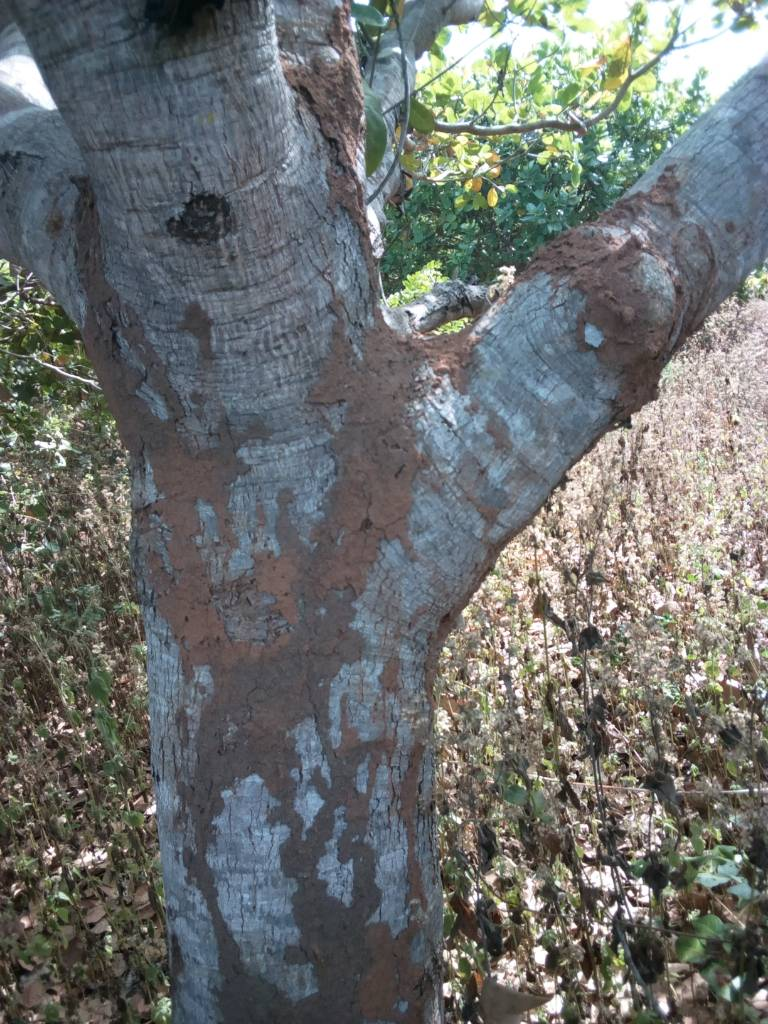Termites: (182, 746, 436, 1022), (140, 457, 315, 710), (543, 211, 705, 375), (329, 339, 416, 608), (297, 35, 383, 263)
